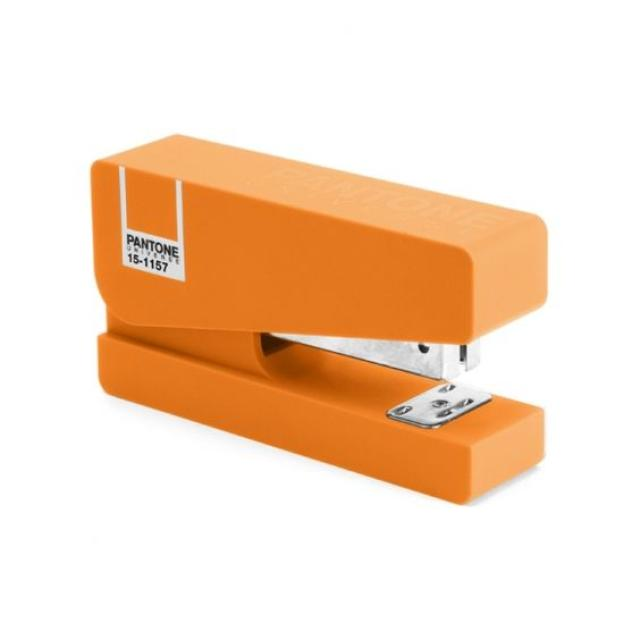Stapler: (78, 88, 578, 498)
